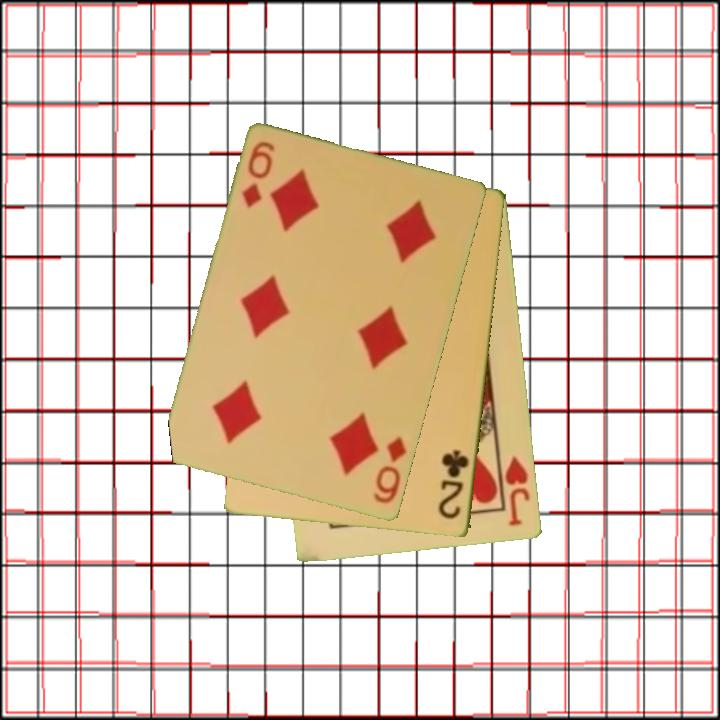2c: (435, 446, 472, 523)
6d: (370, 433, 410, 507), (238, 138, 278, 212)
Jh: (502, 453, 533, 530)
